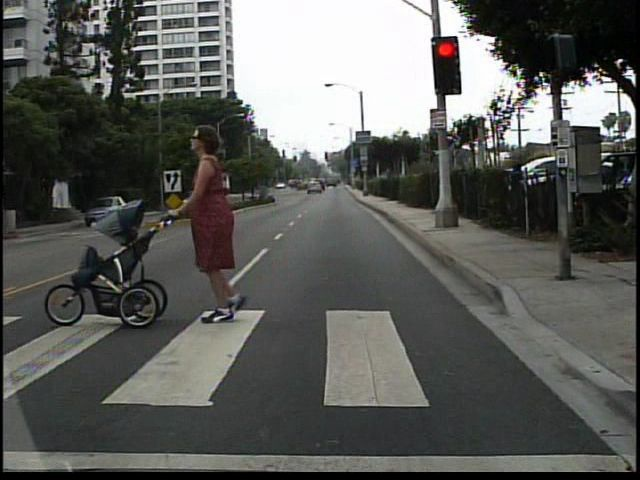person: (170, 122, 264, 324)
